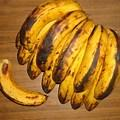banana: (23, 0, 120, 93), (0, 57, 50, 103)
